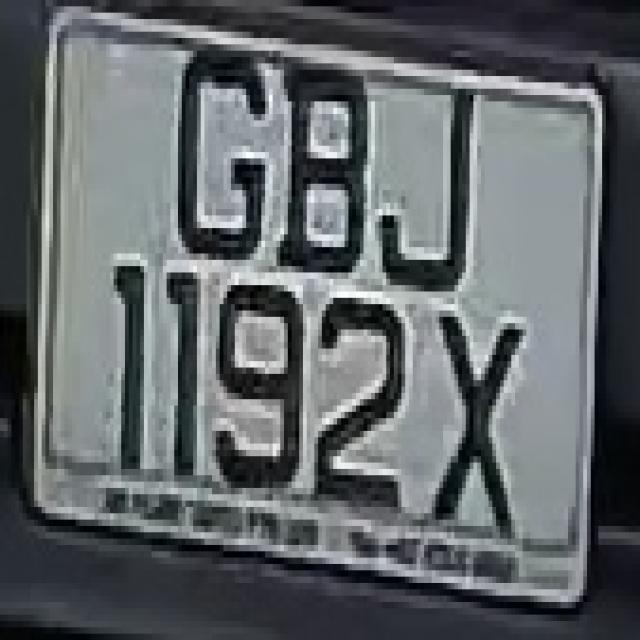1: (148, 222, 208, 500), (102, 241, 152, 494)
2: (311, 279, 409, 545)
9: (216, 260, 314, 500)
B: (272, 38, 378, 292)
G: (155, 19, 273, 279)
J: (378, 44, 488, 310)
X: (428, 285, 530, 551)
